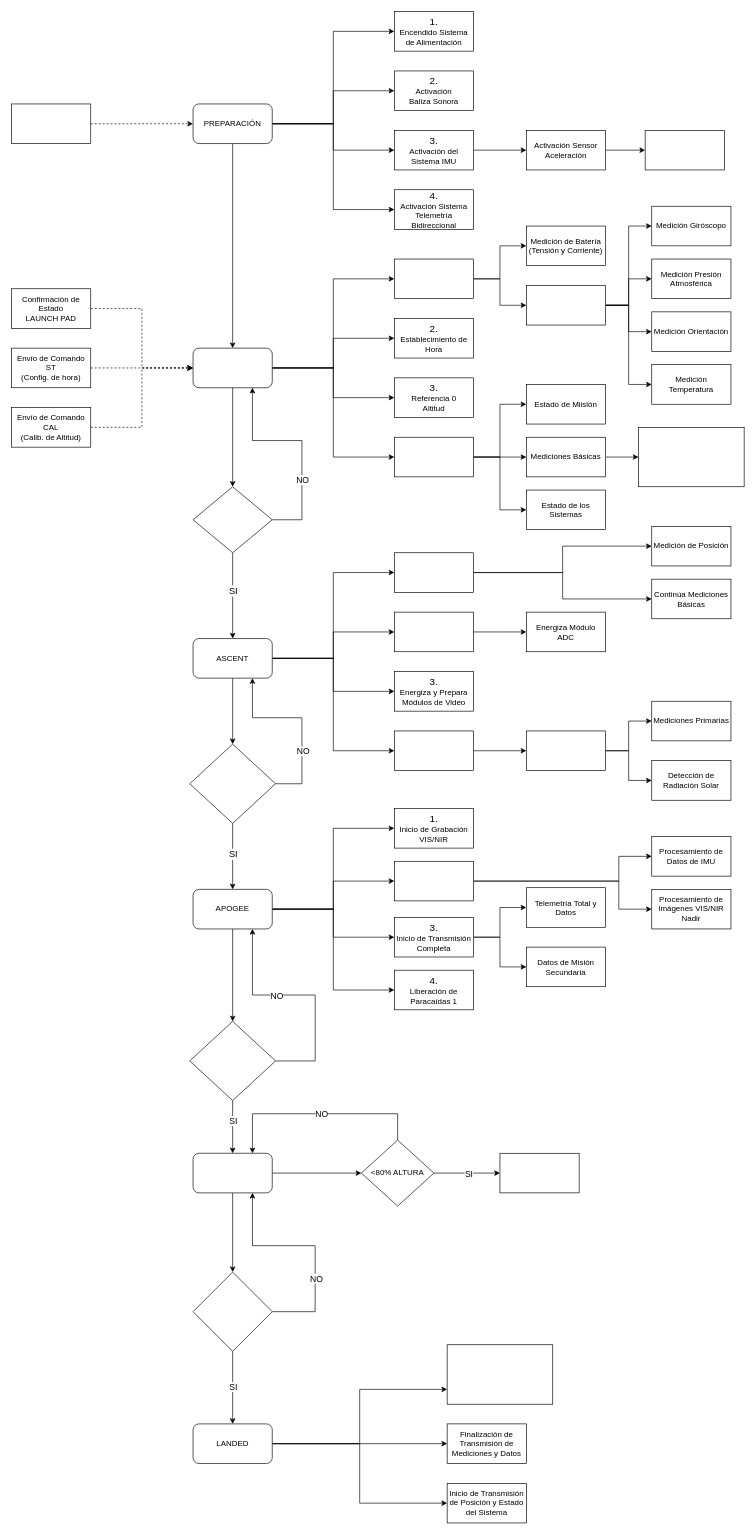
This 756x1535 diagram has some shape labels left out. Here are the shapes that lost their labels. From the top down, the centre of each, then its label:
point 51,123: Envío de Comando CX_ON (Habilit. de Telem.)
point 684,150: Medición Aceleración
point 434,278: 1. Inicio Mediciones Básicas
point 566,305: Medición IMU y otros
point 232,367: LAUNCH PAD
point 434,457: 4. Inicio de Transmisión de Datos
point 691,457: Aceleración, Rotación, Orientación, Presión, Temperatura y Batería
point 232,519: ¿Se detecta lanzamiento?
point 434,572: 1. Inicio Mediciones Primarias
point 434,631: 2. Inicio de Detección Radiación Solar
point 434,750: 4. Inicio de Transmisión de Telemetría Total y Datos
point 566,750: Mediciones
point 232,783: ¿Se detecta una Separación?
point 434,881: 2. Inicio de Misión Secundaria
point 232,1061: ¿Se detecta el Descenso?
point 232,1173: DESCENT
point 539,1173: APERTURA DE PARACAÍDAS 2
point 232,1311: ¿Se ha detectado un aterrizaje?
point 499,1374: Finalización de Medición Telemetría luego de tiempo determinado
